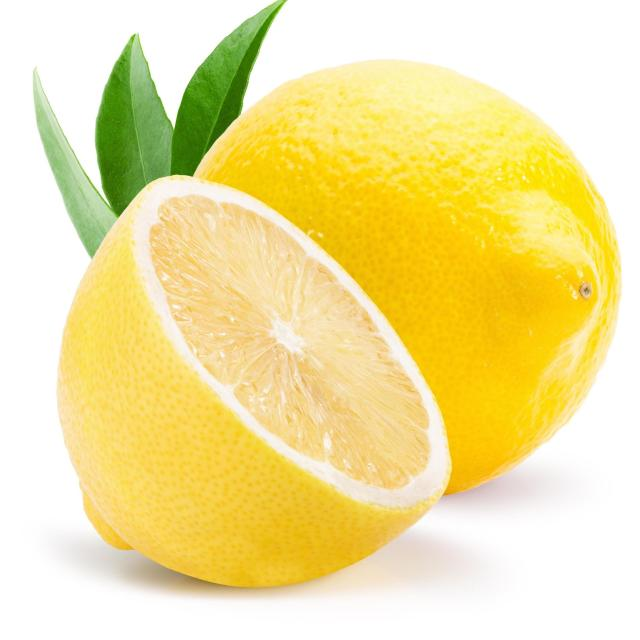lemon: (52, 166, 460, 596)
